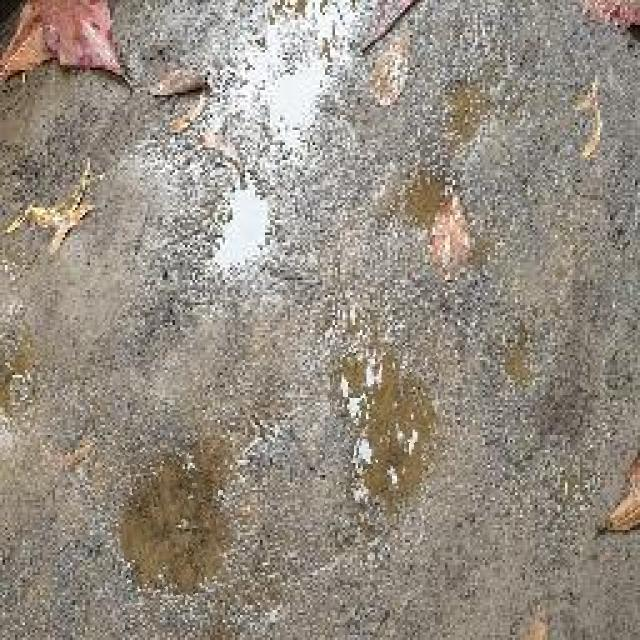puddle: (327, 345, 445, 526), (108, 449, 239, 602)
